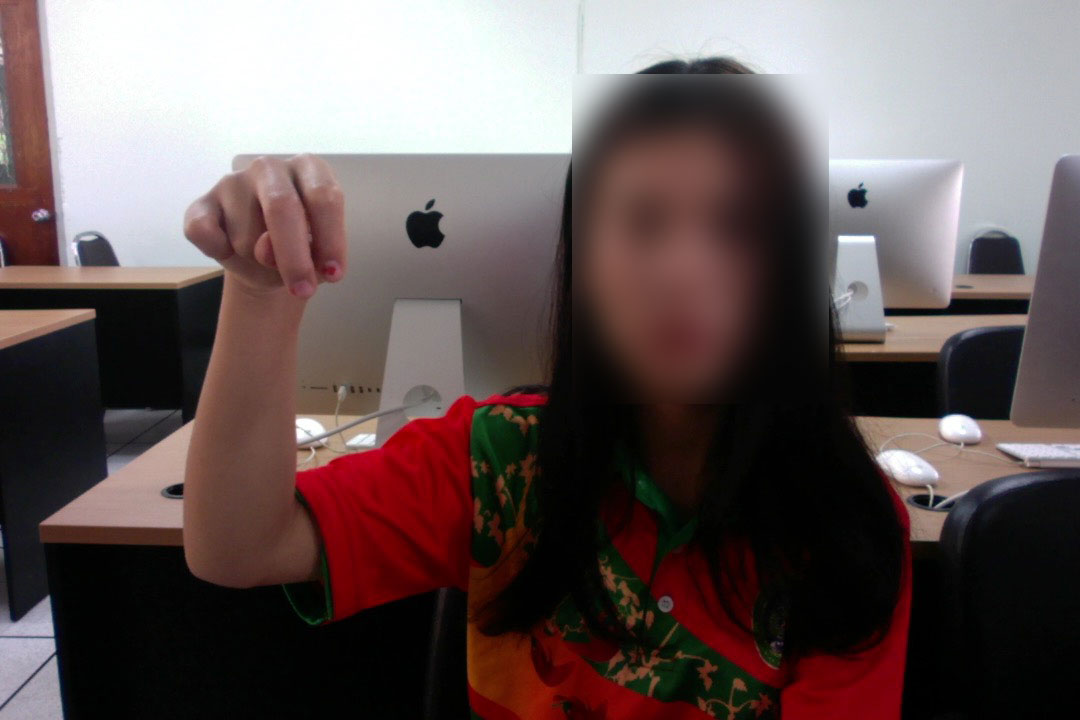nor: (172, 147, 357, 324)
